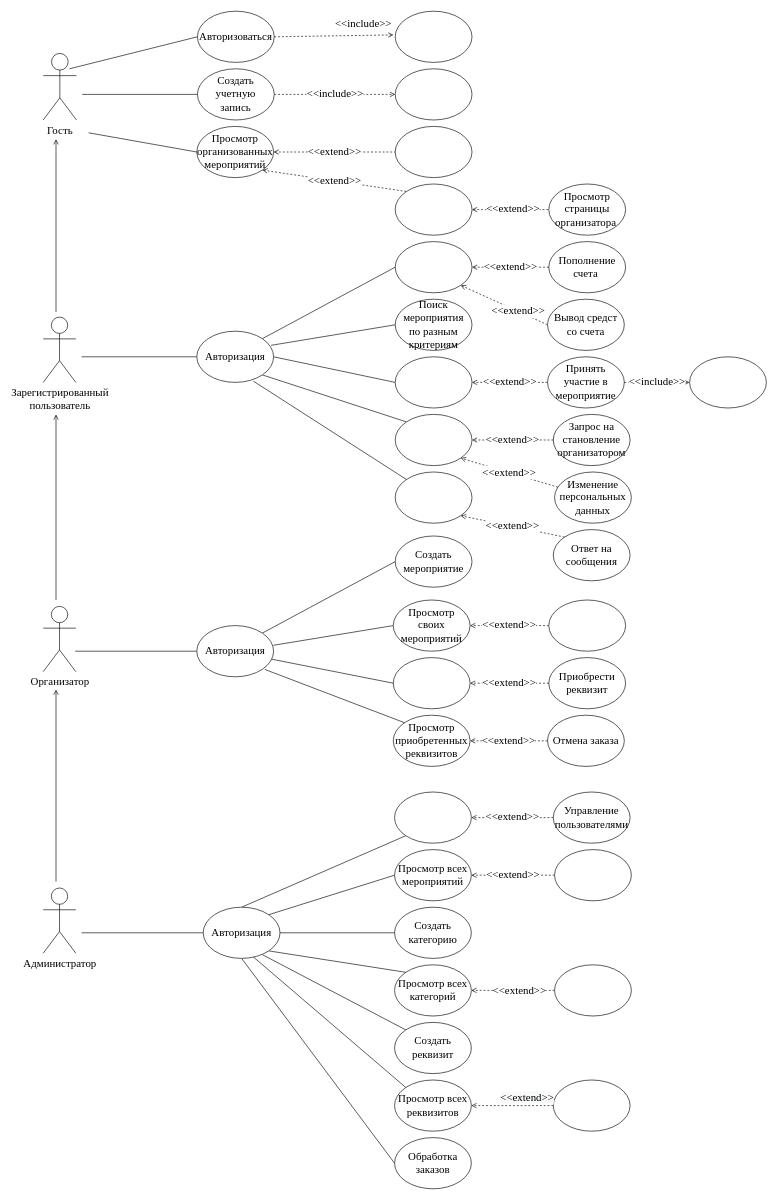
This 778x1200 diagram has some shape labels left out. The shapes that lost their labels are listed below. From the top down, each one's centre as x and y in pixels, then its label:
At point 433,36: "Ввод логина и пароля".
At point 433,94: "Ввод данных для регистрации".
At point 433,152: "Поиск по критериям".
At point 433,209: "Просмотр конкрентого мероприятия".
At point 433,267: "Просмотр баланса".
At point 433,382: "Просмотр список мероприятий".
At point 727,382: "Оплата за участие".
At point 433,440: "Просмотр персональных данных".
At point 433,497: "Просмотр сообщений".
At point 587,625: "Изменить мероприятие".
At point 431,683: "Просмотр предлагаемых реквизитов".
At point 432,817: "Просмотр всех пользователей системы".
At point 592,875: "Управление мероприятиями".
At point 592,990: "Управление категориями".
At point 591,1105: "Управление реквизитами".
